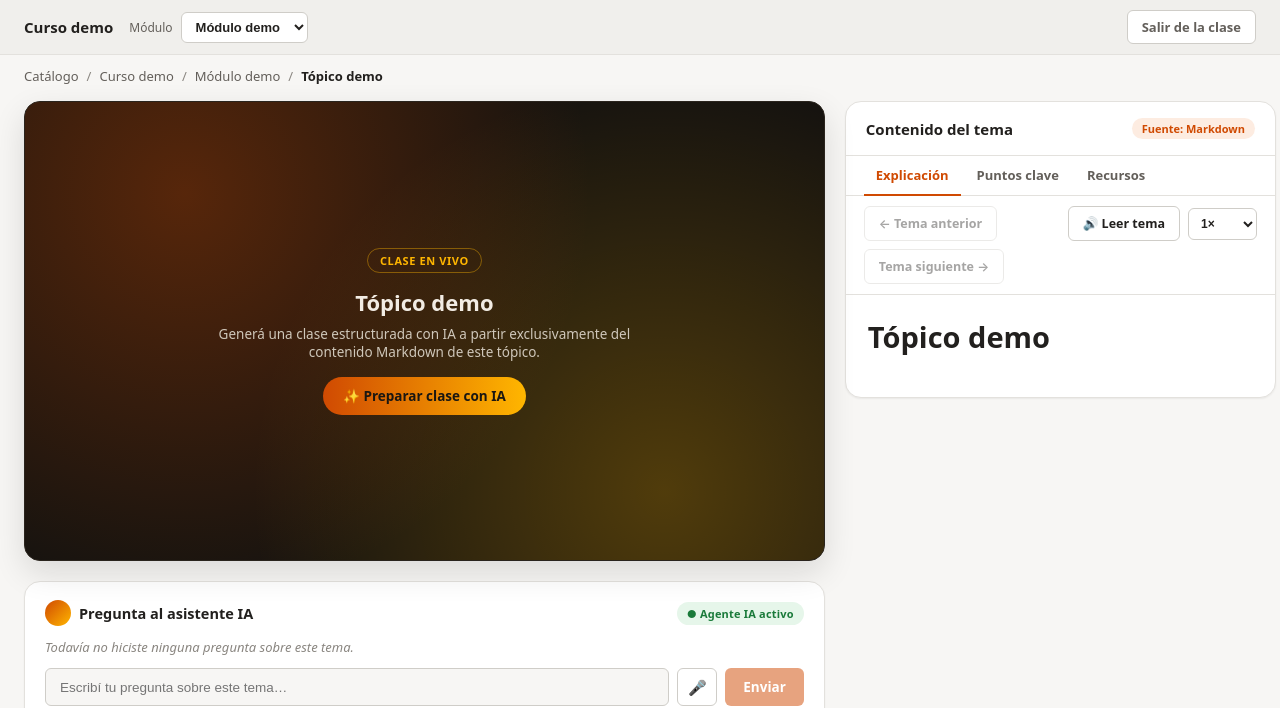
Test: ClassroomPage — v1.1.1 navegación del aula › D: Previo funciona (retrocede de escena 2 a escena 1)
The width and height of the screenshot is (1280, 708).
Step 1. Click the button "✨ Preparar clase con IA" → click(424, 396), box [323, 376, 526, 414]
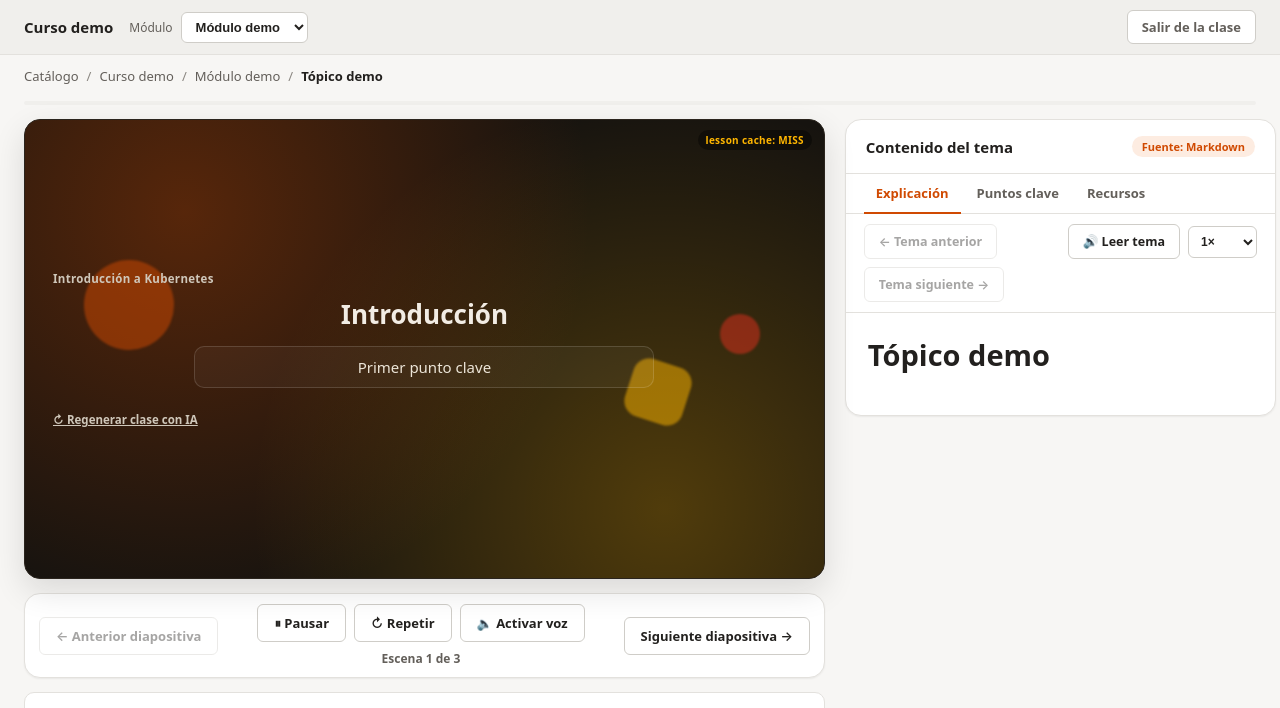
Result: the text "Introducción a Kubernetes" is shown at [53, 271, 214, 286]
Step 2. Click the button "Siguiente diapositiva →" → click(717, 636), box [624, 616, 810, 654]
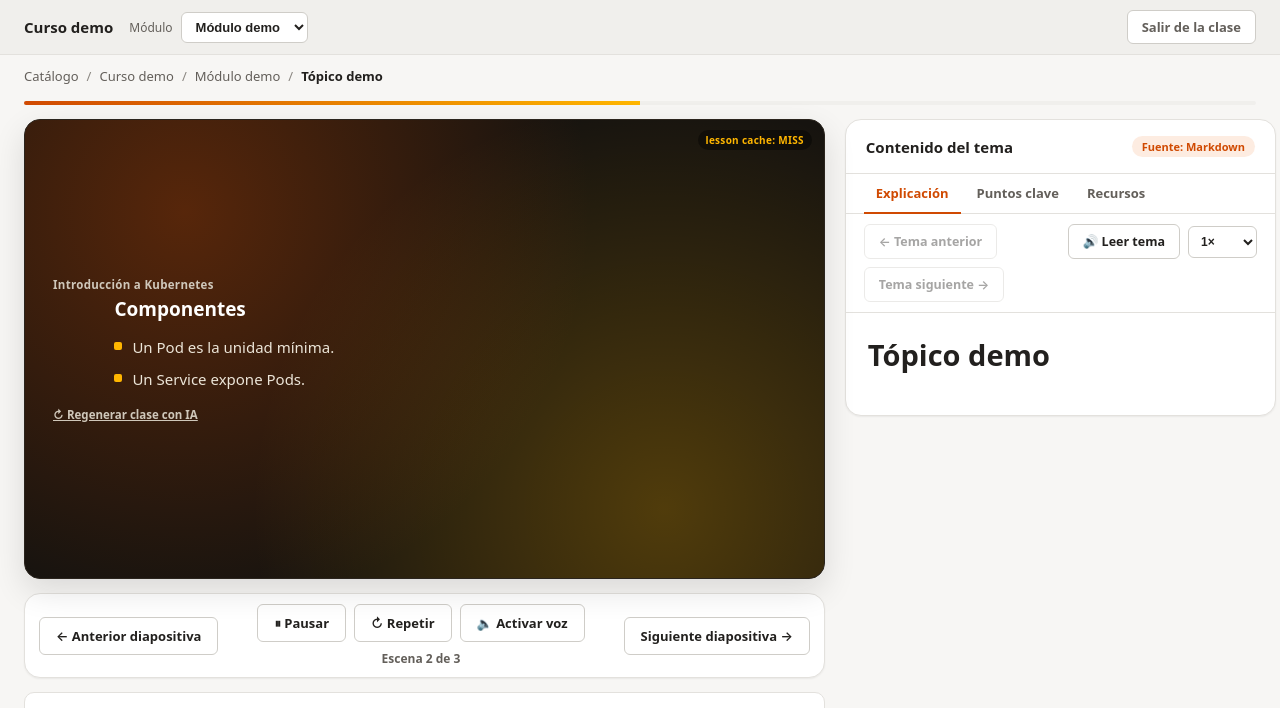
Result: the heading "Componentes" is shown at [114, 296, 246, 322]
Step 3. Click the button with aria-label "Diapositiva anterior" → click(129, 636), box [39, 616, 218, 654]
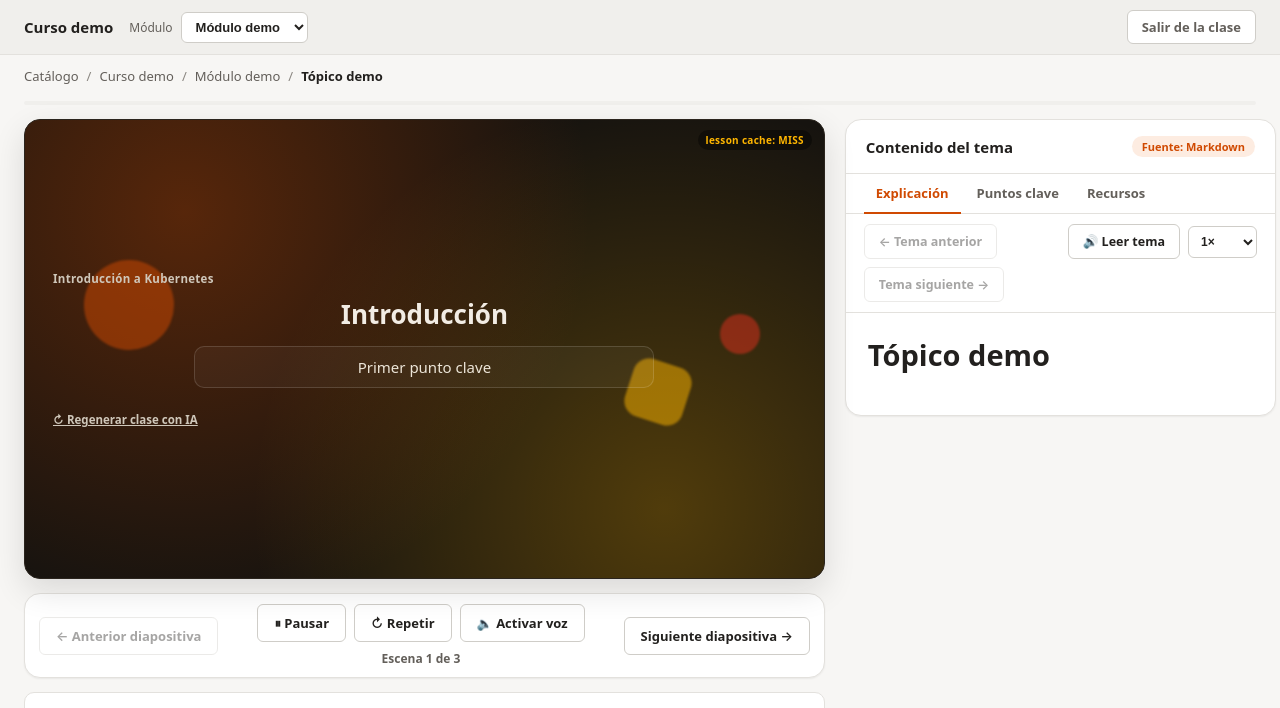
Result: the heading "Introducción" is shown at [341, 296, 508, 332]
